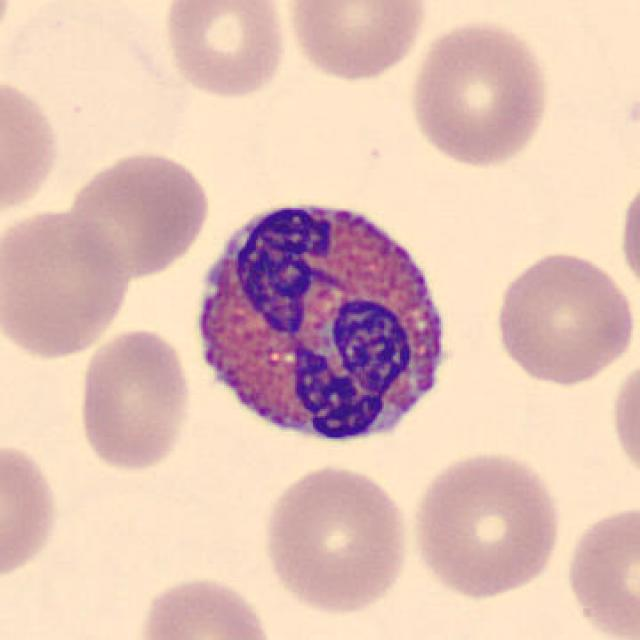Eosinophil: (181, 180, 466, 467)
RBC: (405, 446, 567, 601), (258, 460, 414, 617), (404, 14, 554, 171), (0, 203, 135, 363), (489, 245, 636, 388), (60, 144, 214, 278), (73, 324, 194, 474), (160, 0, 291, 102), (281, 0, 430, 83), (560, 497, 640, 640), (134, 571, 278, 640), (0, 70, 64, 224), (0, 436, 64, 586), (606, 349, 640, 492), (615, 169, 640, 298), (0, 0, 18, 65)
